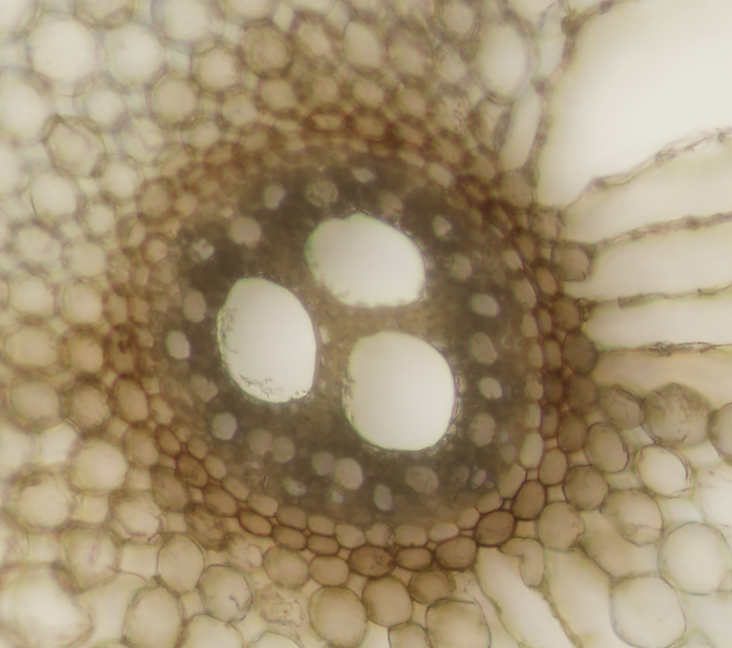lm: (343, 329, 455, 450), (215, 276, 316, 403), (303, 211, 426, 307)
